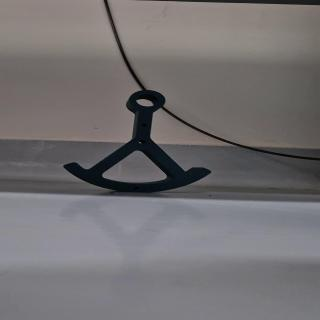haptic: (63, 90, 212, 193)
